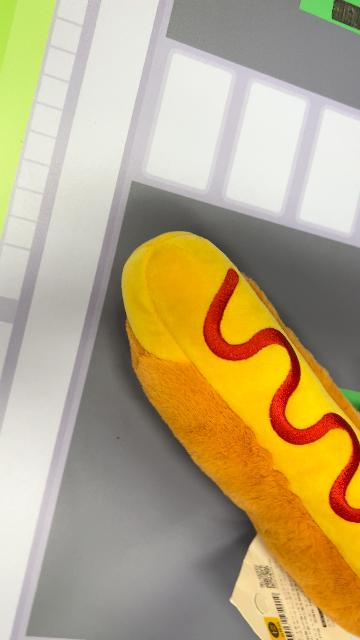hotdog: (121, 228, 359, 638)
